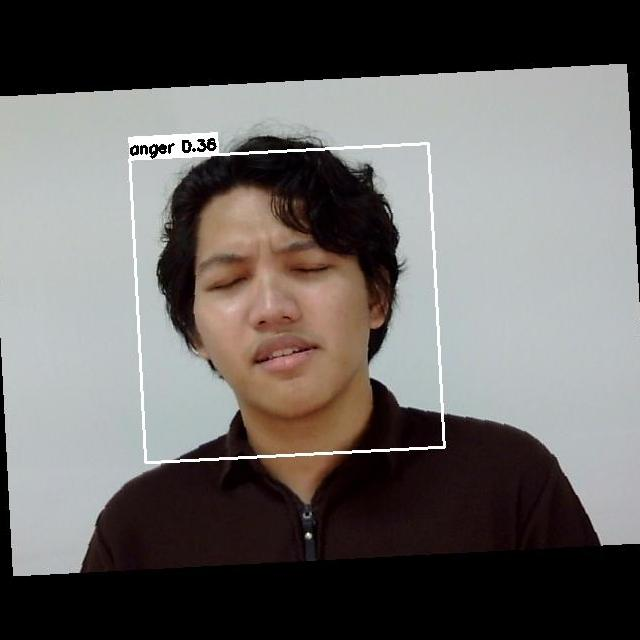Sad: (191, 218, 375, 397)
